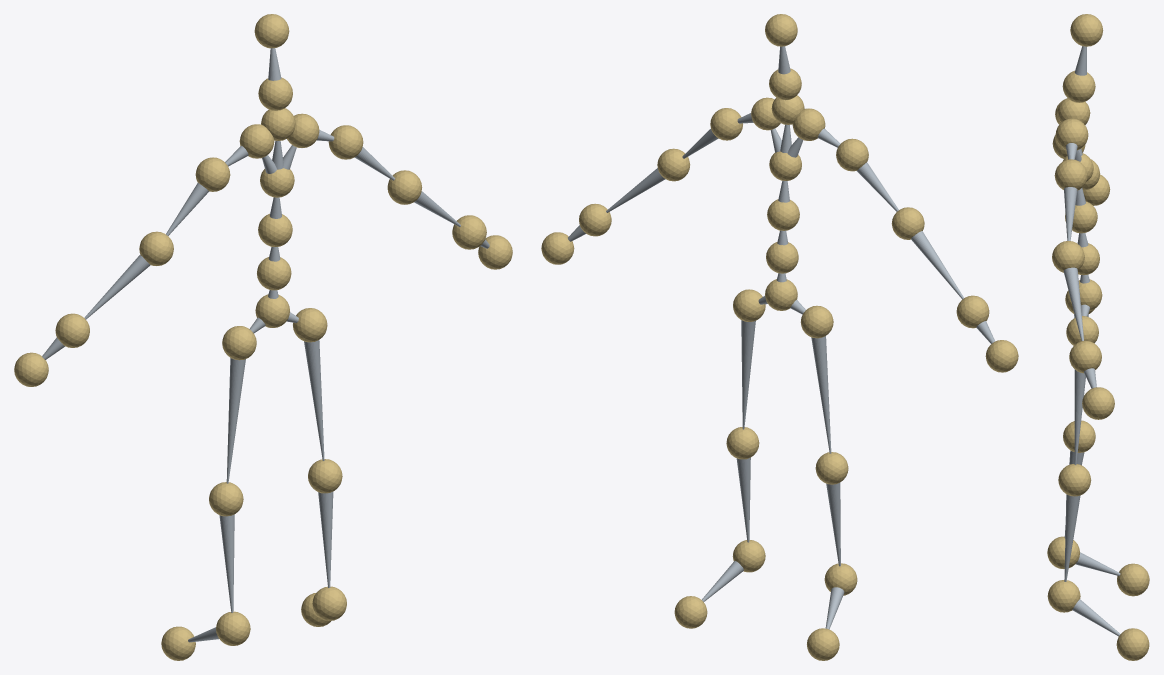
File: yeri_skeleton.glb
The picture shows the model from 3 angles, left to right: view 1: azimuth 30°, elevation 25°; view 2: azimuth 150°, elevation 25°; view 3: azimuth 270°, elevation 25°; orthographic projection. The views are drawn at different scales.
Visible parts, largest first — view 1: world; view 2: world; view 3: world.
Part boxes in pixels (box(x1,y1,x2,y2)): world: box(14, 14, 512, 660); world: box(541, 14, 1018, 660); world: box(1047, 14, 1149, 660).
Bounding box in the file's own units: 0.7923 × 0.9838 × 0.1494.
